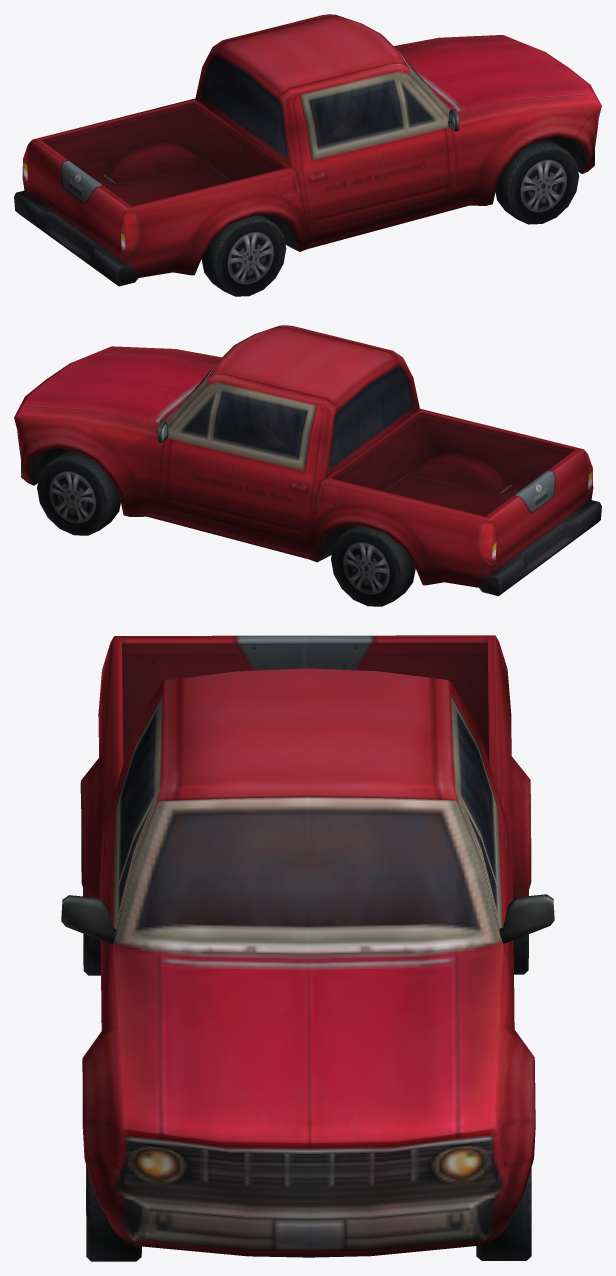
The model's file is JianKongJieDao_01_qiche_01.FBX.
3 renders of one model, top to bottom at view 1: azimuth 30°, elevation 25°; view 2: azimuth 150°, elevation 25°; view 3: azimuth 270°, elevation 25°, orthographic. The views are drawn at different scales.
Visible parts, largest first — view 1: JianKongJieDao_01_qiche_01; view 2: JianKongJieDao_01_qiche_01; view 3: JianKongJieDao_01_qiche_01.
Part boxes in pixels (left/top/right/bottom): JianKongJieDao_01_qiche_01: left=14, top=14, right=601, bottom=296; JianKongJieDao_01_qiche_01: left=14, top=325, right=601, bottom=606; JianKongJieDao_01_qiche_01: left=61, top=635, right=554, bottom=1261.
Bounding box in the file's own units: 1183 × 406 × 501.
